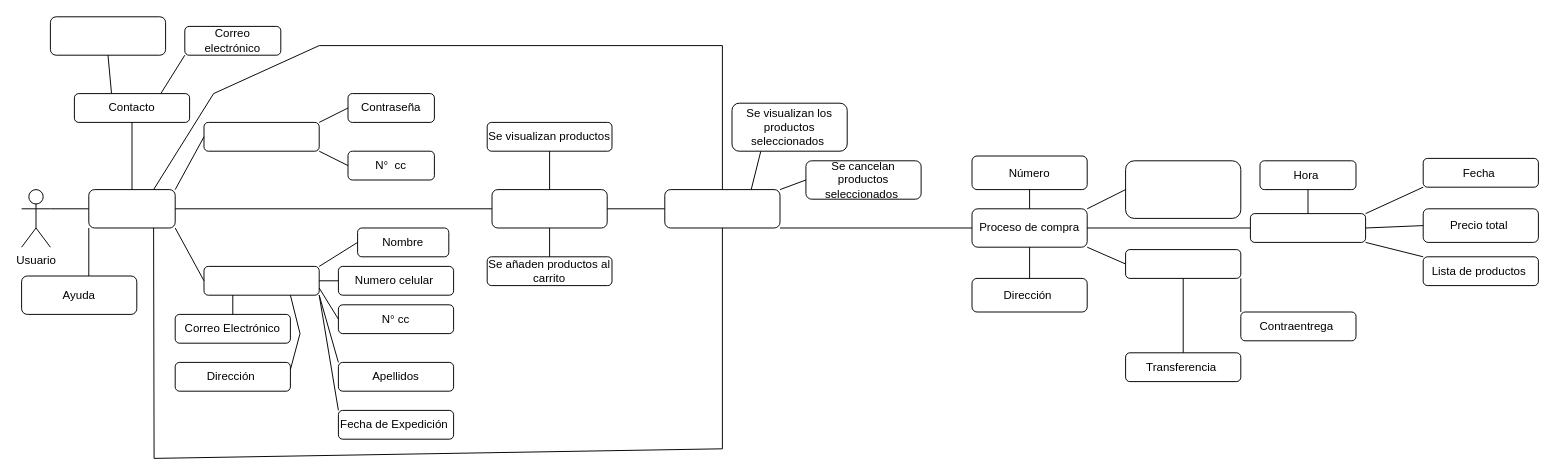
The diagram is 1555 pixels wide and 476 high, and some of its shapes have lost their labels. The centre of each missing label's shape, as x and y in pixels:
"Carrito" goes at pixel 722 208.
"Confirmar productos seleccionados y precio total" goes at pixel 1183 189.
"Factura" goes at pixel 1307 227.
"Inicio" goes at pixel 261 136.
"Método de pago" goes at pixel 1183 263.
"Producto" goes at pixel 549 208.
"Registrarse" goes at pixel 261 280.
"Sitio Web Responsive" goes at pixel 131 208.
"Teléfono de contacto" goes at pixel 107 35.
